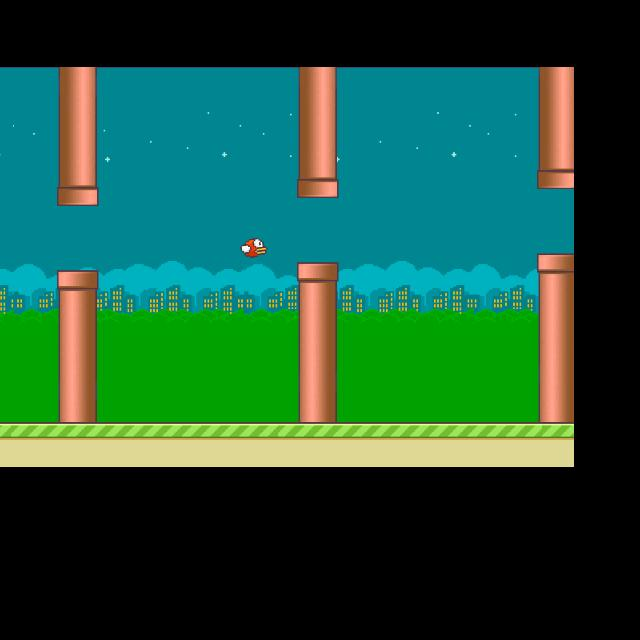bird: (240, 238, 267, 257)
pipedown: (297, 262, 339, 405), (57, 271, 96, 417), (537, 254, 573, 412)
pipeup: (56, 74, 99, 205), (296, 73, 338, 198), (536, 72, 574, 189)
